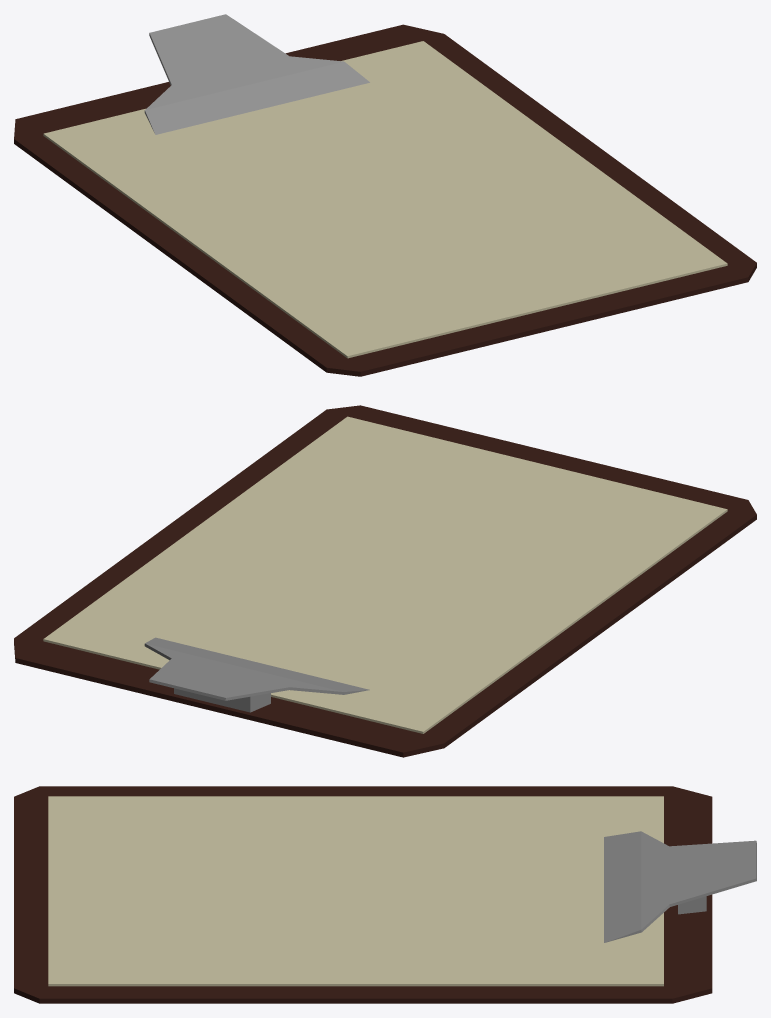
Rendered from Paper_Clipboard_vc.fbx.
The picture shows the model from 3 angles, top to bottom: view 1: azimuth 30°, elevation 25°; view 2: azimuth 150°, elevation 25°; view 3: azimuth 270°, elevation 25°; orthographic projection.
Visible parts, largest first — view 1: Paper_Clipboard_vc; view 2: Paper_Clipboard_vc; view 3: Paper_Clipboard_vc.
Boxes of the visible parts, box(x1,y1,x2,y2) form: Paper_Clipboard_vc: box(14, 14, 756, 376); Paper_Clipboard_vc: box(14, 405, 756, 757); Paper_Clipboard_vc: box(14, 786, 756, 1003).
Bounding box in the file's own units: 18.21 × 1.52 × 26.9.
